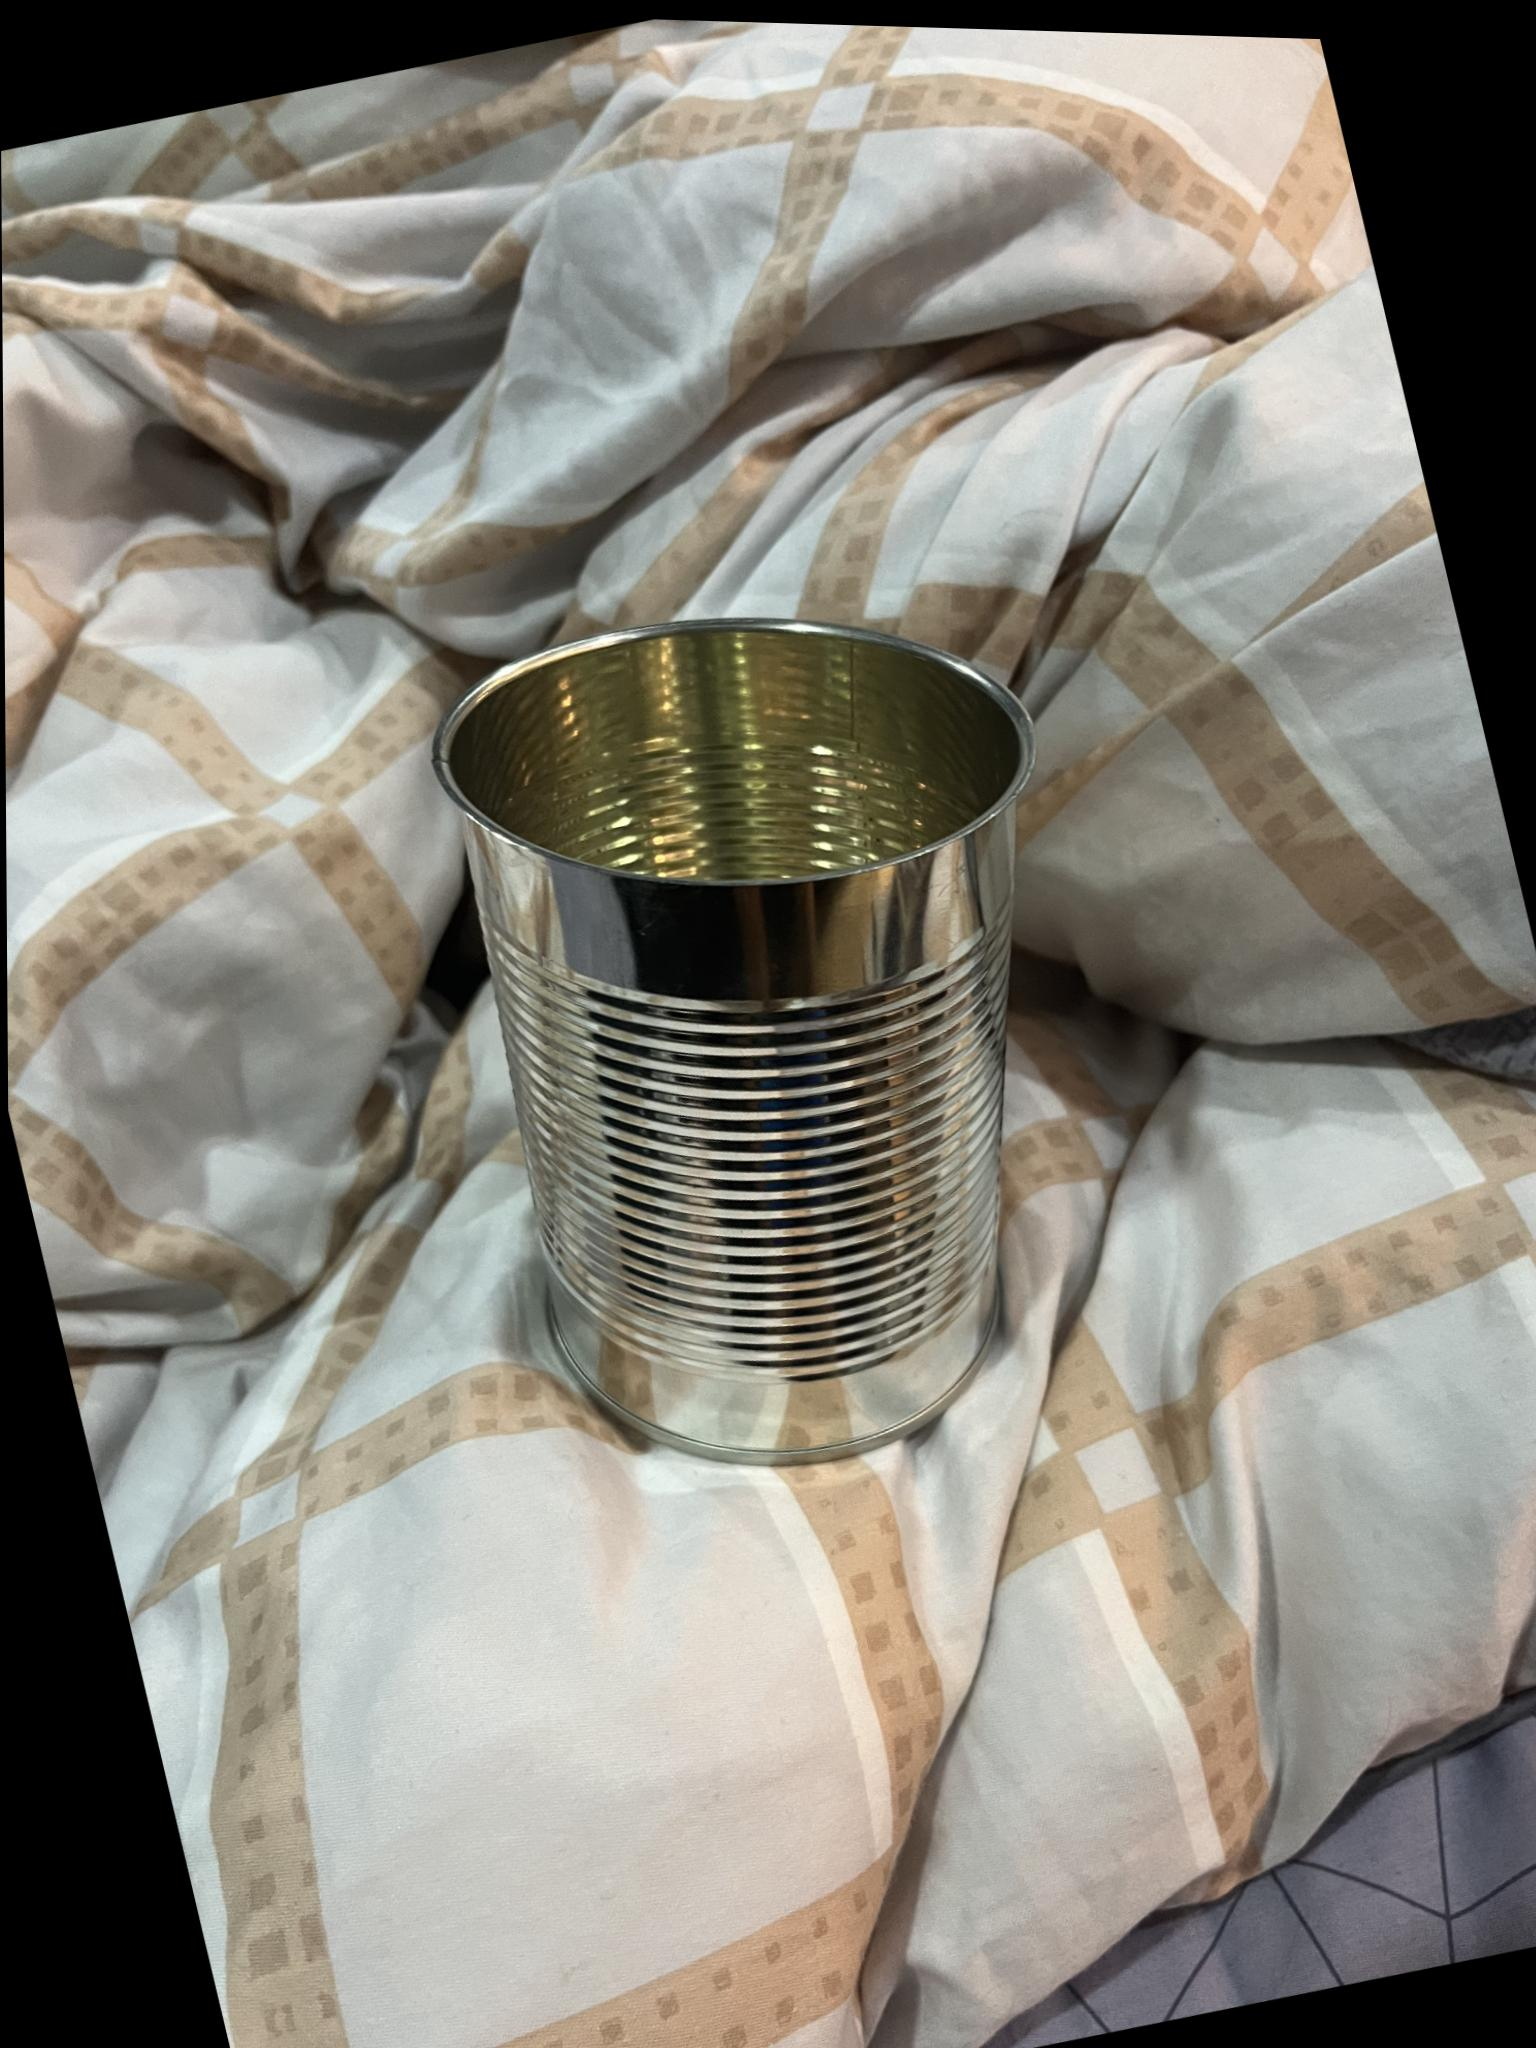metal: (384, 518, 1163, 1538)
